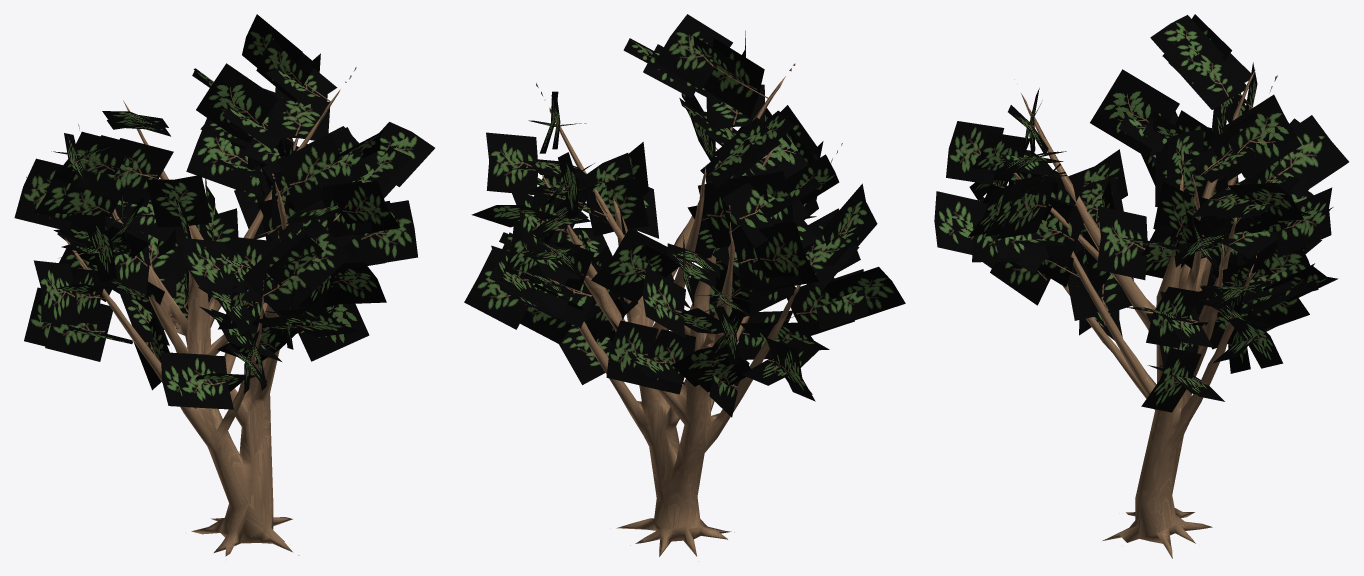
The model's file is Arbousier_V10_3_LOD1.fbx.
3 views of the same model, side by side, from view 1: azimuth 30°, elevation 25°; view 2: azimuth 150°, elevation 25°; view 3: azimuth 270°, elevation 25° (orthographic).
Parts seen in each view (by area): view 1: Arbousier_V10_3_LOD1; view 2: Arbousier_V10_3_LOD1; view 3: Arbousier_V10_3_LOD1.
Boxes of the visible parts, x1=… form: Arbousier_V10_3_LOD1: x1=14, y1=14, x2=434, y2=556; Arbousier_V10_3_LOD1: x1=464, y1=14, x2=905, y2=556; Arbousier_V10_3_LOD1: x1=934, y1=14, x2=1348, y2=558.
Size of the model in its own units: 286 by 349 by 278.
